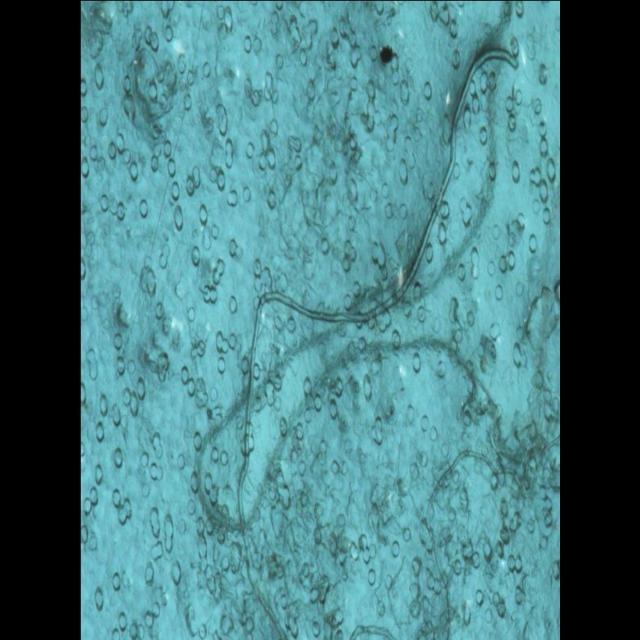Fibre: (185, 36, 548, 640)
